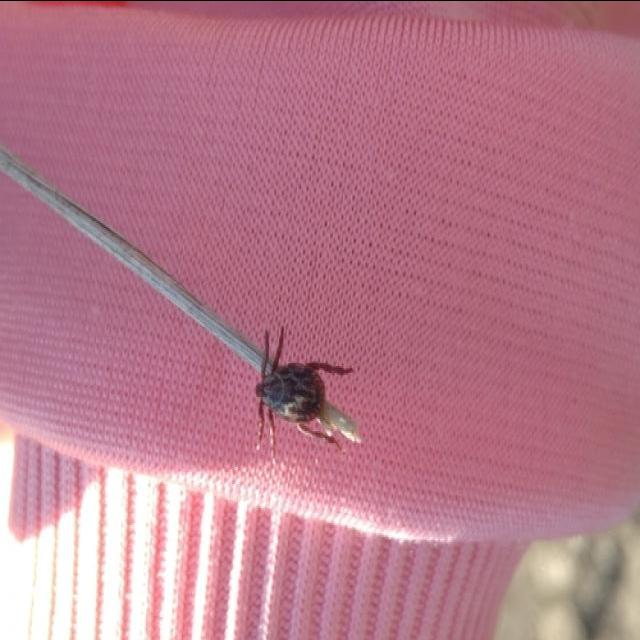Dermacentor Reticulatus-M: (255, 324, 340, 466)
